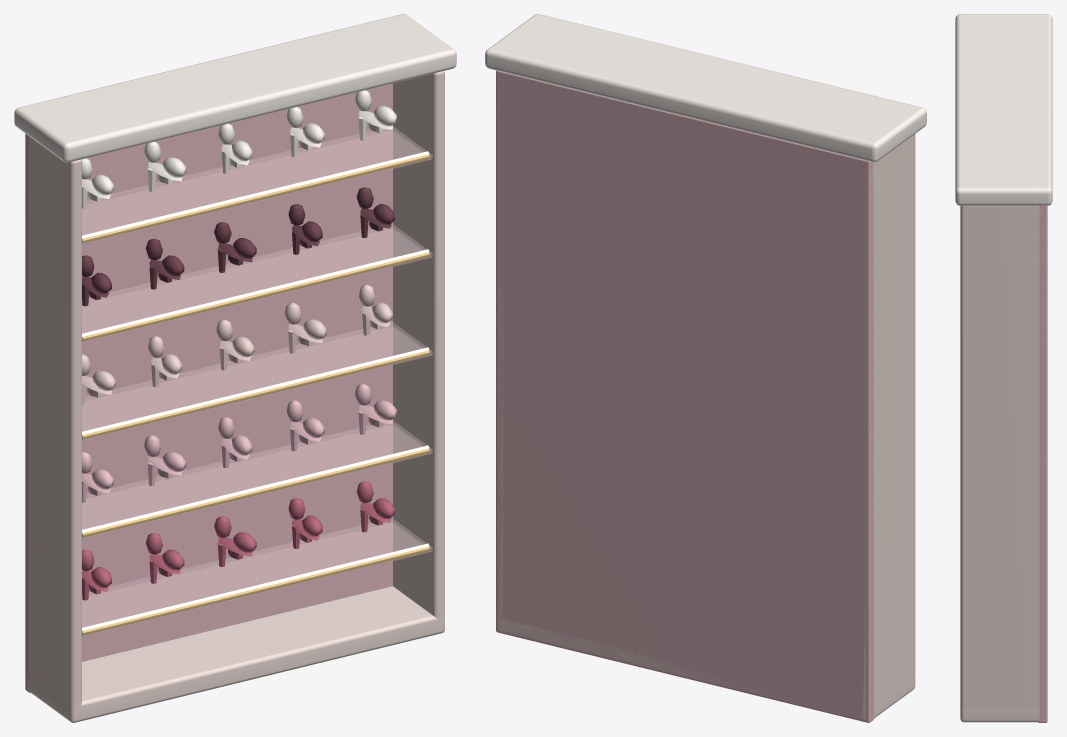
File: closet_shoe_wall.glb
3 views of the same model, side by side, from view 1: azimuth 30°, elevation 25°; view 2: azimuth 150°, elevation 25°; view 3: azimuth 270°, elevation 25° (orthographic). The views are drawn at different scales.
Parts seen in each view (by area): view 1: closet_shoe_wall; view 2: closet_shoe_wall; view 3: closet_shoe_wall.
Part boxes in pixels (left/top/right/bottom): closet_shoe_wall: left=14, top=14, right=456, bottom=722; closet_shoe_wall: left=485, top=14, right=926, bottom=722; closet_shoe_wall: left=955, top=14, right=1052, bottom=722.
Size of the model in its own units: 1.68 by 2.38 by 0.39.
